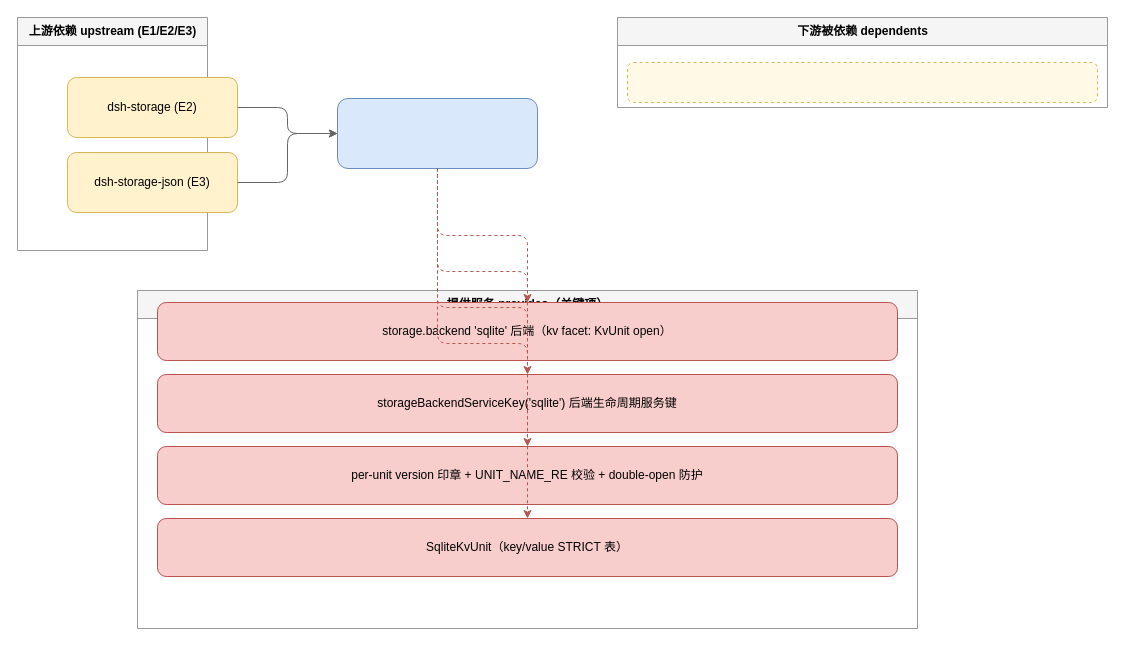
This 1125x646 diagram has some shape labels left out. The centre of each missing label's shape, as x and y in pixels:
"@deepseek-ai/dsh-storage-sqlite" belongs at point (437, 133).
"… 无下游依赖（L3 扩展点，共 0 个）" belongs at point (862, 82).
